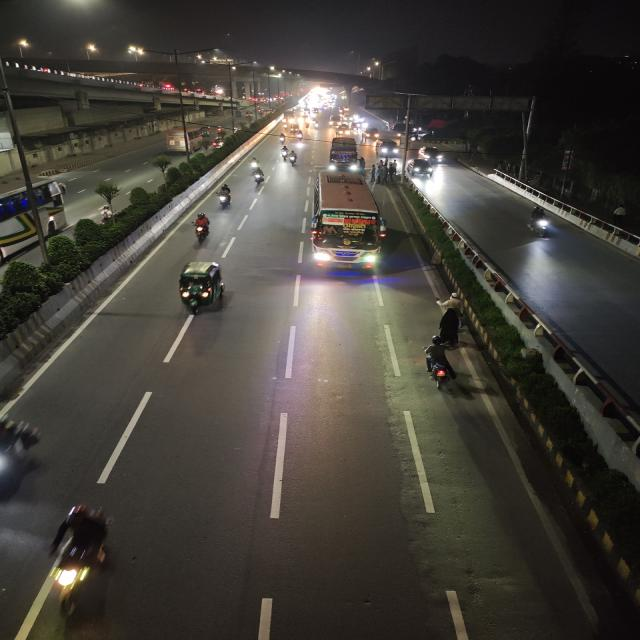bus: (300, 167, 389, 275), (0, 175, 70, 269), (164, 123, 211, 153), (326, 136, 362, 172)
car: (406, 158, 434, 178), (418, 145, 445, 162), (361, 128, 379, 140)
cng: (168, 258, 232, 322), (375, 138, 400, 158), (288, 123, 299, 134)
motorcycle: (413, 336, 465, 394), (525, 205, 558, 242), (184, 211, 216, 246), (214, 183, 235, 211), (249, 167, 267, 189), (281, 145, 298, 167), (245, 154, 262, 172), (278, 145, 290, 161), (277, 132, 288, 144), (215, 126, 225, 134)
pedestrian: (428, 304, 466, 348), (375, 165, 385, 184)
